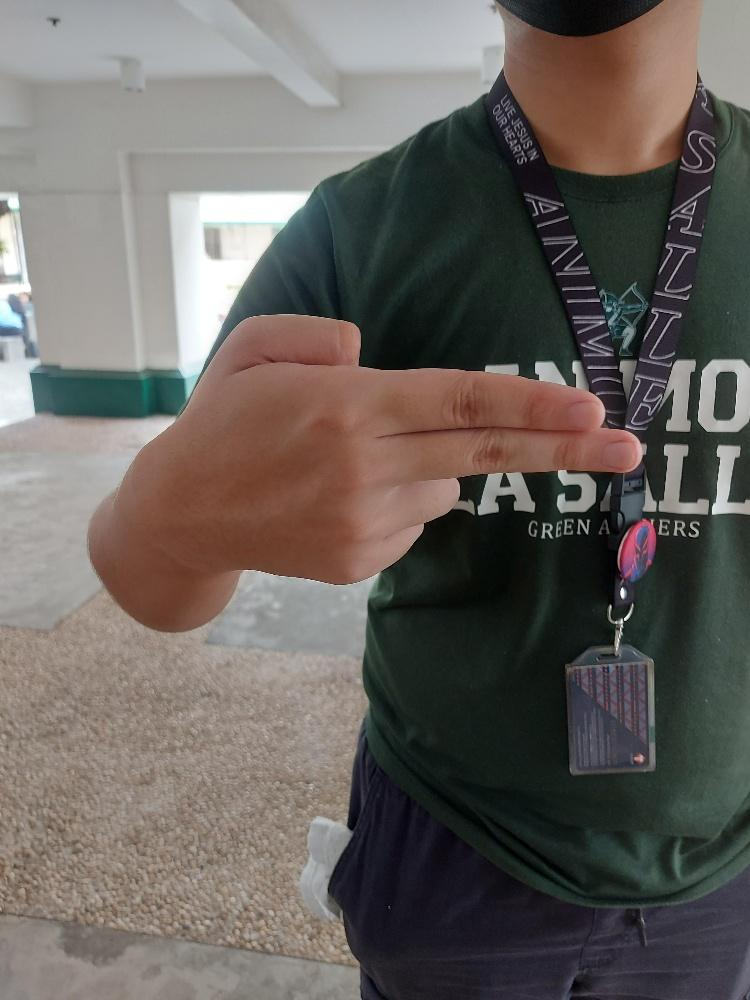h: (148, 308, 641, 587)
